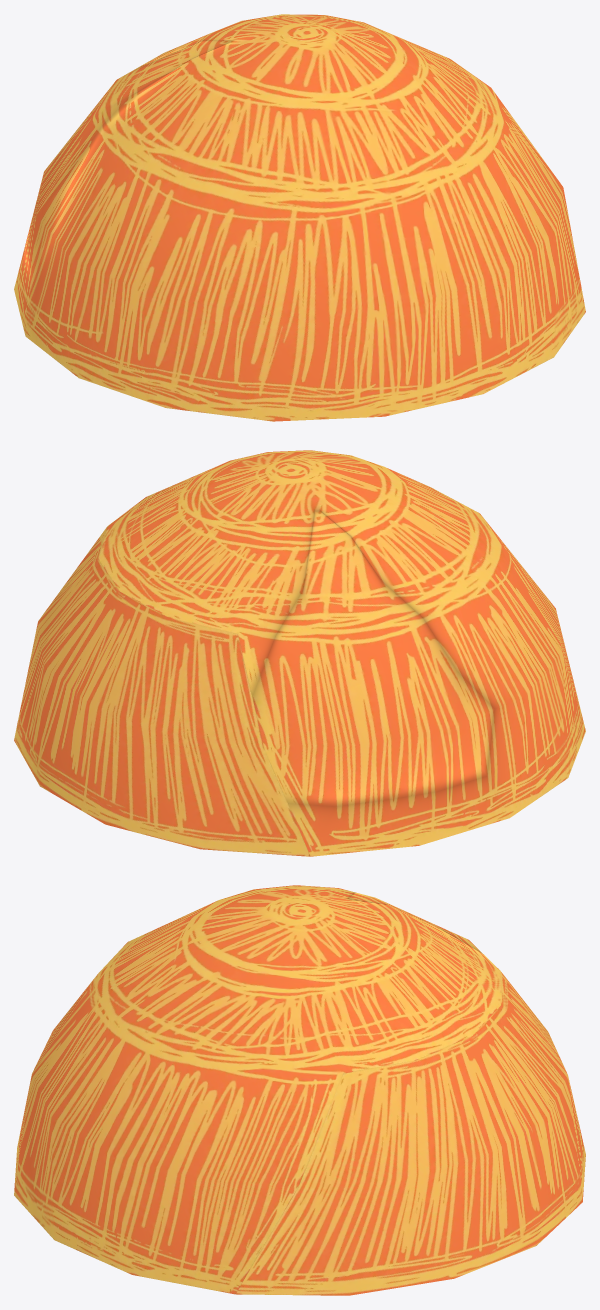
File: tent3_2024.glb
3 views of the same model, one above another, from view 1: azimuth 30°, elevation 25°; view 2: azimuth 150°, elevation 25°; view 3: azimuth 270°, elevation 25° (orthographic).
Parts seen in each view (by area): view 1: tente3; view 2: tente3; view 3: tente3.
Boxes of the visible parts, box(x1,y1,x2,y2) form: tente3: box(14, 14, 585, 421); tente3: box(14, 450, 585, 856); tente3: box(14, 885, 585, 1295).
Size of the model in its own units: 9.8 by 5.08 by 9.8.
1 material, 1 textured.
